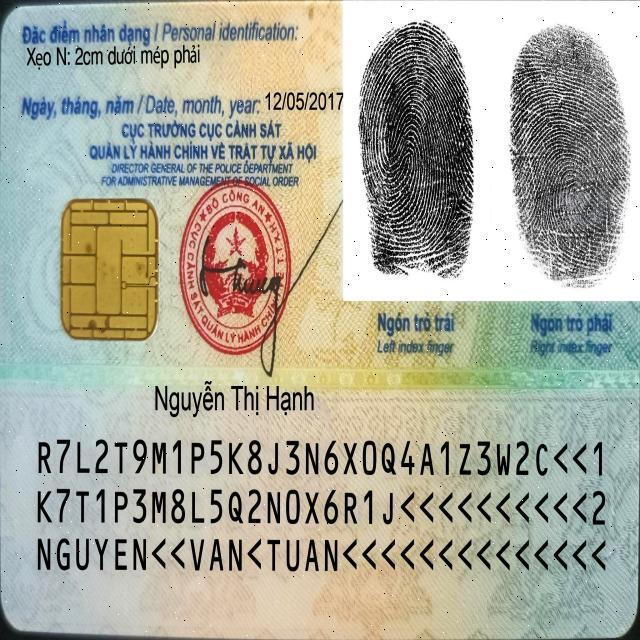features: (19, 36, 216, 76)
finger_print: (342, 0, 484, 358), (503, 2, 640, 358)
issue_date: (264, 88, 344, 116)
